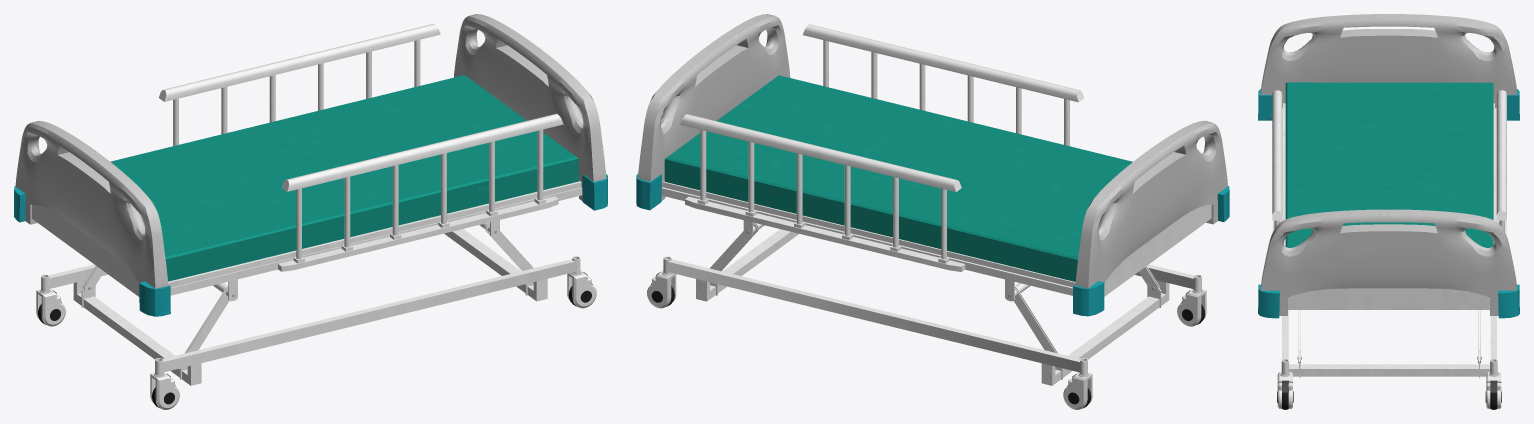
File: hospital_bed_low_poly.glb
3 views of the same model, side by side, from view 1: azimuth 30°, elevation 25°; view 2: azimuth 150°, elevation 25°; view 3: azimuth 270°, elevation 25° (orthographic). The views are drawn at different scales.
Parts seen in each view (by area): view 1: Letto_Ospedaliero_0; view 2: Letto_Ospedaliero_0; view 3: Letto_Ospedaliero_0.
Part boxes in pixels (x1=…): Letto_Ospedaliero_0: x1=14, y1=14, x2=607, y2=409; Letto_Ospedaliero_0: x1=636, y1=14, x2=1229, y2=409; Letto_Ospedaliero_0: x1=1258, y1=14, x2=1519, y2=409.
Size of the model in its own units: 2.88 by 1.29 by 1.54.
1 material, 1 textured.
